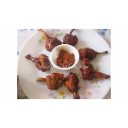chicken_lollipop: (79, 58, 111, 81), (62, 72, 83, 100), (34, 73, 64, 92), (25, 50, 50, 72), (77, 45, 108, 61), (40, 28, 60, 49), (61, 28, 82, 46)
